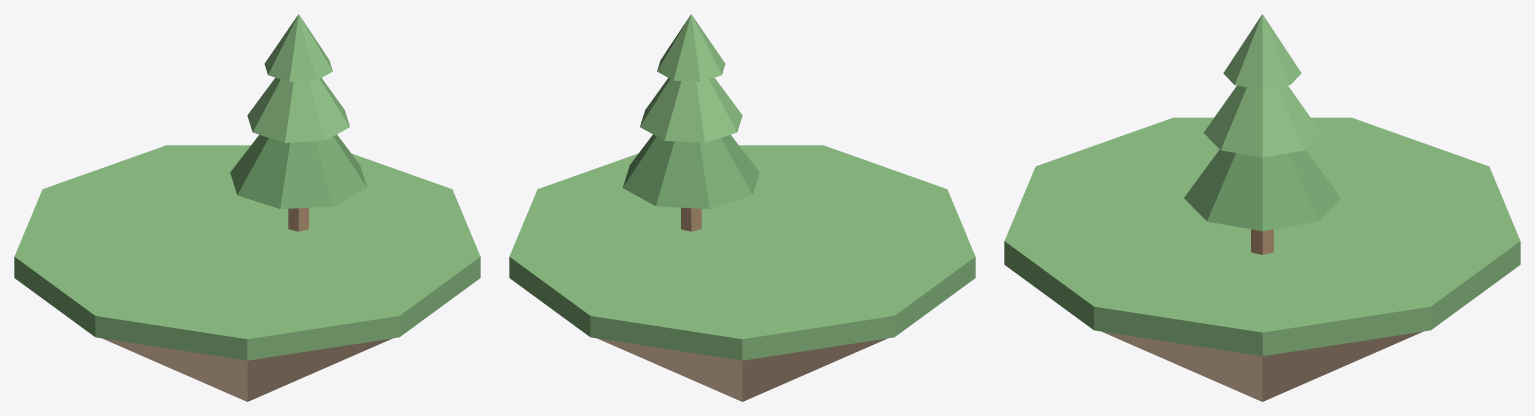
The model's file is isla.glb.
3 renders of one model, left to right at view 1: azimuth 30°, elevation 25°; view 2: azimuth 150°, elevation 25°; view 3: azimuth 270°, elevation 25°, orthographic. The views are drawn at different scales.
Parts seen in each view (by area): view 1: isla; view 2: isla; view 3: isla.
Boxes of the visible parts, left/top/right/bottom form: isla: left=14, top=14, right=480, bottom=401; isla: left=509, top=14, right=975, bottom=401; isla: left=1004, top=14, right=1520, bottom=401.
Size of the model in its own units: 2.33 by 2.1 by 2.36.
